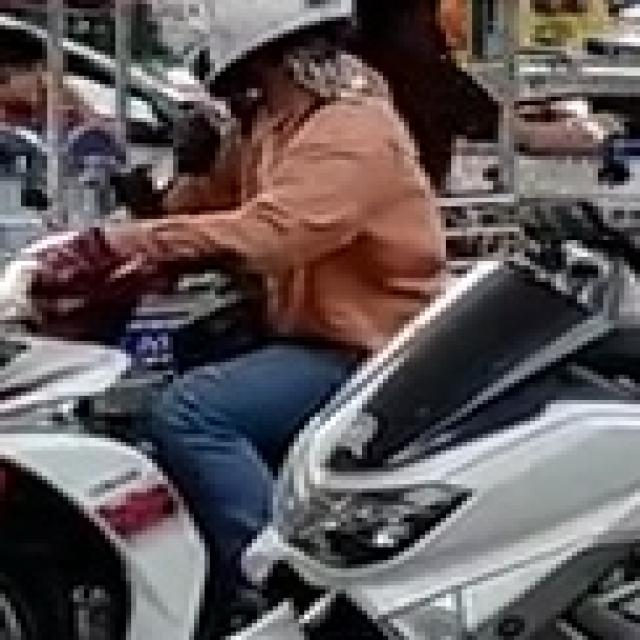helmet: (194, 0, 357, 93)
